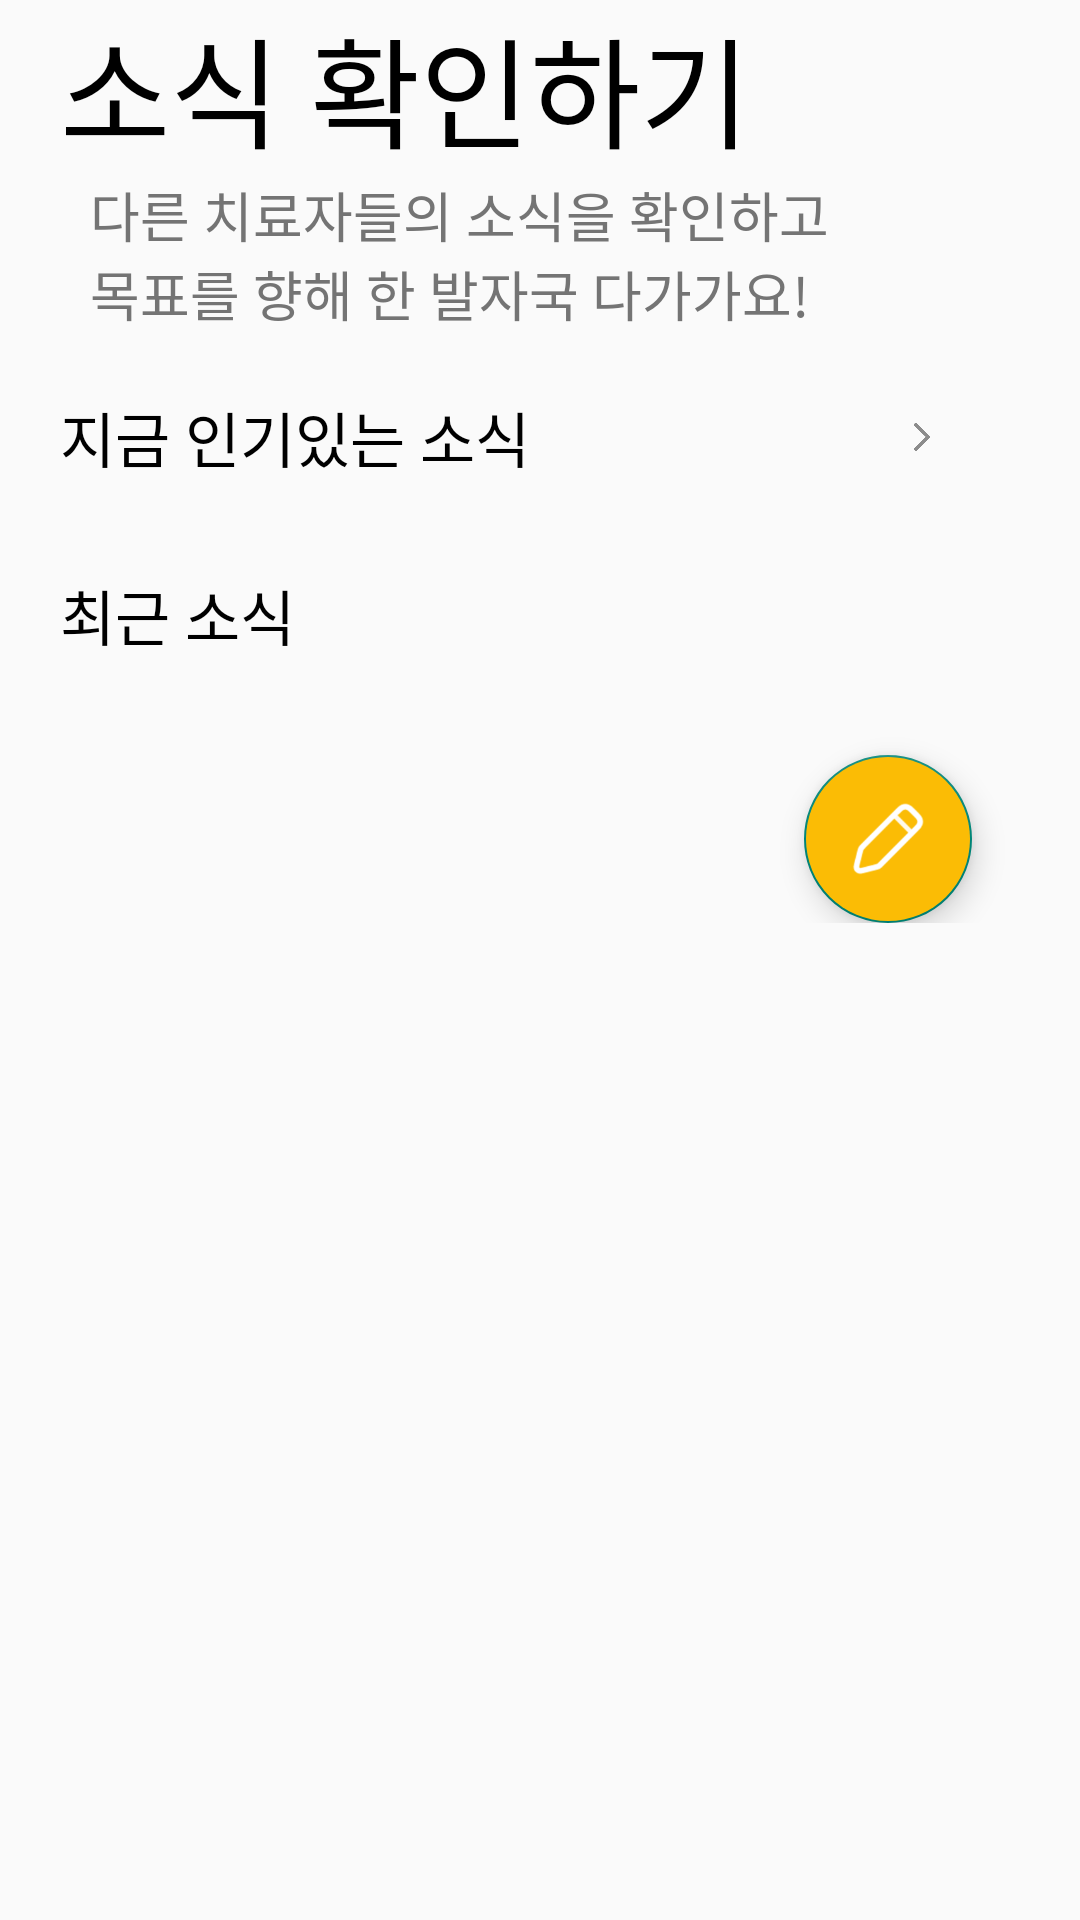

Named icons in this screenshot (1080×1920) and their centers, [x,y]:
arrow right: [922,437]
write: [888,839]
